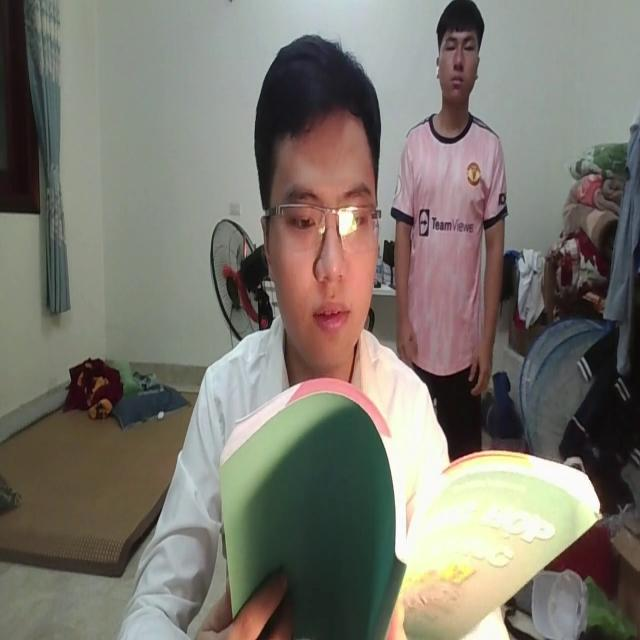book: (214, 364, 600, 640)
extra_person: (387, 0, 512, 421)
student: (132, 36, 452, 638)
